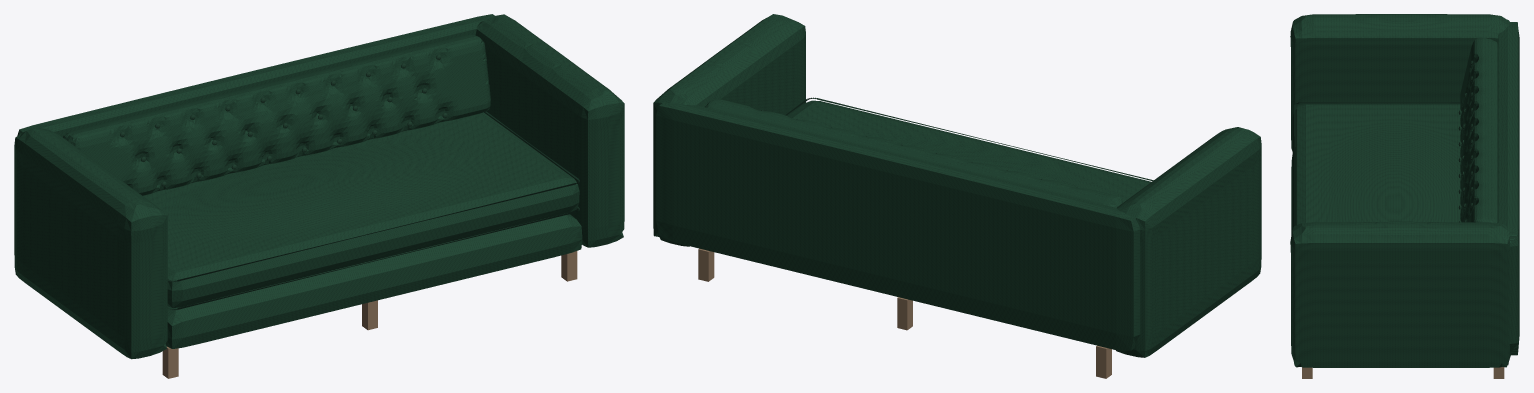
The model's file is BIB-CHS-3-seat.glb.
3 renders of one model, left to right at view 1: azimuth 30°, elevation 25°; view 2: azimuth 150°, elevation 25°; view 3: azimuth 270°, elevation 25°, orthographic. The views are drawn at different scales.
Visible parts, largest first — view 1: seat:fabric:eyJwcmVzZXQiOiJ0YXJ0YW4iLCJ3YXJwIjoiZm9yZXN0Iiwi, inside-back:fabric:eyJwcmVzZXQiOiJ0YXJ0YW4iLCJ3YXJwIjoiZm9yZ, arm-pad-l:fabric:eyJwcmVzZXQiOiJ0YXJ0YW4iLCJ3YXJwIjoiZm9yZXN, arm-pad-r:fabric:eyJwcmVzZXQiOiJ0YXJ0YW4iLCJ3YXJwIjoiZm9yZXN, deck:fabric:eyJwcmVzZXQiOiJ0YXJ0YW4iLCJ3YXJwIjoiZm9yZXN0Iiwi, back-pad:fabric:eyJwcmVzZXQiOiJ0YXJ0YW4iLCJ3YXJwIjoiZm9yZXN0, seat:piping:pbr, inside-back:buttons:pbr; view 2: back-pad:fabric:eyJwcmVzZXQiOiJ0YXJ0YW4iLCJ3YXJwIjoiZm9yZXN0, arm-pad-l:fabric:eyJwcmVzZXQiOiJ0YXJ0YW4iLCJ3YXJwIjoiZm9yZXN, arm-pad-r:fabric:eyJwcmVzZXQiOiJ0YXJ0YW4iLCJ3YXJwIjoiZm9yZXN, seat:fabric:eyJwcmVzZXQiOiJ0YXJ0YW4iLCJ3YXJwIjoiZm9yZXN0Iiwi, inside-back:fabric:eyJwcmVzZXQiOiJ0YXJ0YW4iLCJ3YXJwIjoiZm9yZ, seat:piping:pbr, leg-br:pbr; view 3: arm-pad-r:fabric:eyJwcmVzZXQiOiJ0YXJ0YW4iLCJ3YXJwIjoiZm9yZXN, seat:fabric:eyJwcmVzZXQiOiJ0YXJ0YW4iLCJ3YXJwIjoiZm9yZXN0Iiwi, arm-pad-l:fabric:eyJwcmVzZXQiOiJ0YXJ0YW4iLCJ3YXJwIjoiZm9yZXN, inside-back:fabric:eyJwcmVzZXQiOiJ0YXJ0YW4iLCJ3YXJwIjoiZm9yZ, back-pad:fabric:eyJwcmVzZXQiOiJ0YXJ0YW4iLCJ3YXJwIjoiZm9yZXN0, seat:piping:pbr, inside-back:buttons:pbr.
Boxes of the visible parts, x1,y1,x2,y2 form: seat:fabric:eyJwcmVzZXQiOiJ0YXJ0YW4iLCJ3YXJwIjoiZm9yZXN0Iiwi: (143,112,579,307); inside-back:fabric:eyJwcmVzZXQiOiJ0YXJ0YW4iLCJ3YXJwIjoiZm9yZ: (63,35,490,195); arm-pad-l:fabric:eyJwcmVzZXQiOiJ0YXJ0YW4iLCJ3YXJwIjoiZm9yZXN: (14,127,167,359); arm-pad-r:fabric:eyJwcmVzZXQiOiJ0YXJ0YW4iLCJ3YXJwIjoiZm9yZXN: (475,14,624,247); deck:fabric:eyJwcmVzZXQiOiJ0YXJ0YW4iLCJ3YXJwIjoiZm9yZXN0Iiwi: (165,213,582,348); back-pad:fabric:eyJwcmVzZXQiOiJ0YXJ0YW4iLCJ3YXJwIjoiZm9yZXN0: (17,14,494,137); seat:piping:pbr: (167,111,579,309); inside-back:buttons:pbr: (120,54,447,186); back-pad:fabric:eyJwcmVzZXQiOiJ0YXJ0YW4iLCJ3YXJwIjoiZm9yZXN0: (656,102,1140,350); arm-pad-l:fabric:eyJwcmVzZXQiOiJ0YXJ0YW4iLCJ3YXJwIjoiZm9yZXN: (1116,127,1261,357); arm-pad-r:fabric:eyJwcmVzZXQiOiJ0YXJ0YW4iLCJ3YXJwIjoiZm9yZXN: (653,14,805,246); seat:fabric:eyJwcmVzZXQiOiJ0YXJ0YW4iLCJ3YXJwIjoiZm9yZXN0Iiwi: (787,100,1151,202); inside-back:fabric:eyJwcmVzZXQiOiJ0YXJ0YW4iLCJ3YXJwIjoiZm9yZ: (705,99,1122,207); seat:piping:pbr: (785,97,1153,180); leg-br:pbr: (698,248,714,281); arm-pad-r:fabric:eyJwcmVzZXQiOiJ0YXJ0YW4iLCJ3YXJwIjoiZm9yZXN: (1290,221,1510,367); seat:fabric:eyJwcmVzZXQiOiJ0YXJ0YW4iLCJ3YXJwIjoiZm9yZXN0Iiwi: (1292,104,1461,229); arm-pad-l:fabric:eyJwcmVzZXQiOiJ0YXJ0YW4iLCJ3YXJwIjoiZm9yZXN: (1290,14,1509,151); inside-back:fabric:eyJwcmVzZXQiOiJ0YXJ0YW4iLCJ3YXJwIjoiZm9yZ: (1460,37,1498,222); back-pad:fabric:eyJwcmVzZXQiOiJ0YXJ0YW4iLCJ3YXJwIjoiZm9yZXN0: (1498,22,1519,355); seat:piping:pbr: (1294,102,1460,225); inside-back:buttons:pbr: (1458,60,1472,222).
Bounding box in the file's own units: 2.2 × 0.76 × 0.95.
Materials: 14 (6 with a texture image).
